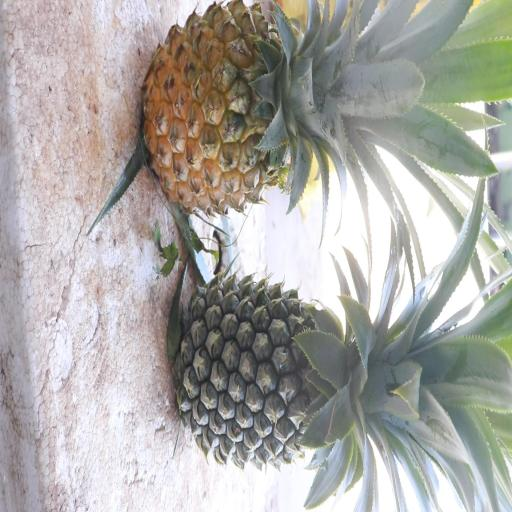Pineapple - v8 v1: (146, 0, 417, 207)
